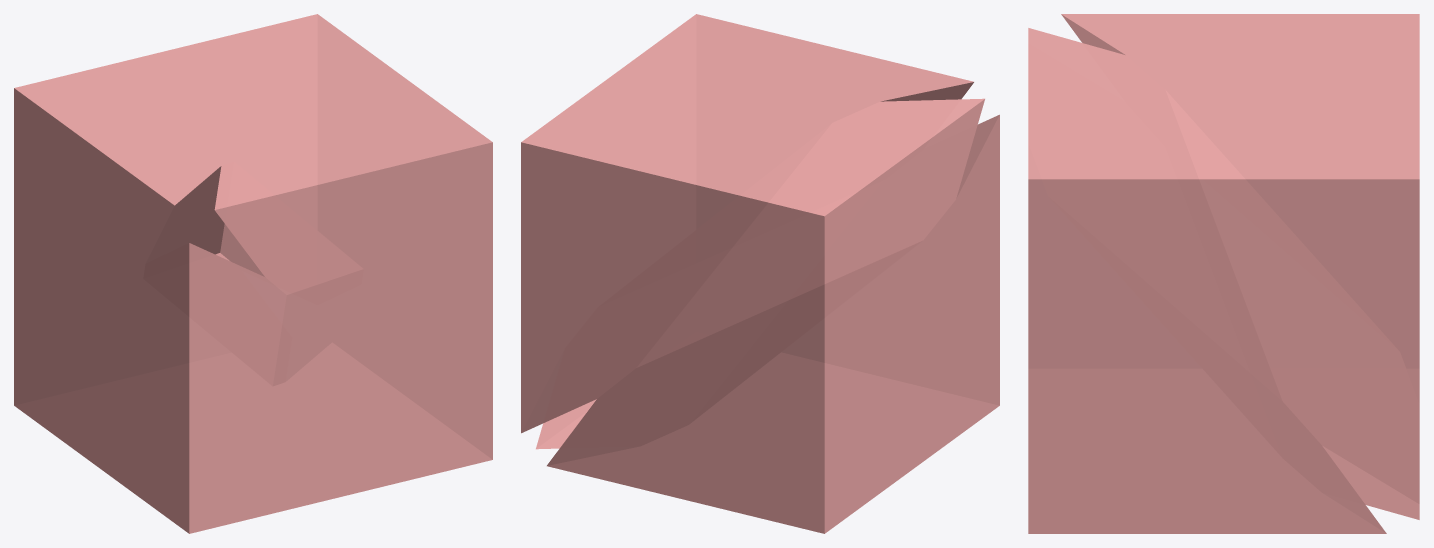
Rendered from HexagonalToroid_I.obj.
3 renders of one model, left to right at view 1: azimuth 30°, elevation 25°; view 2: azimuth 150°, elevation 25°; view 3: azimuth 270°, elevation 25°, orthographic. The views are drawn at different scales.
Size of the model in its own units: 12 by 12 by 12.
